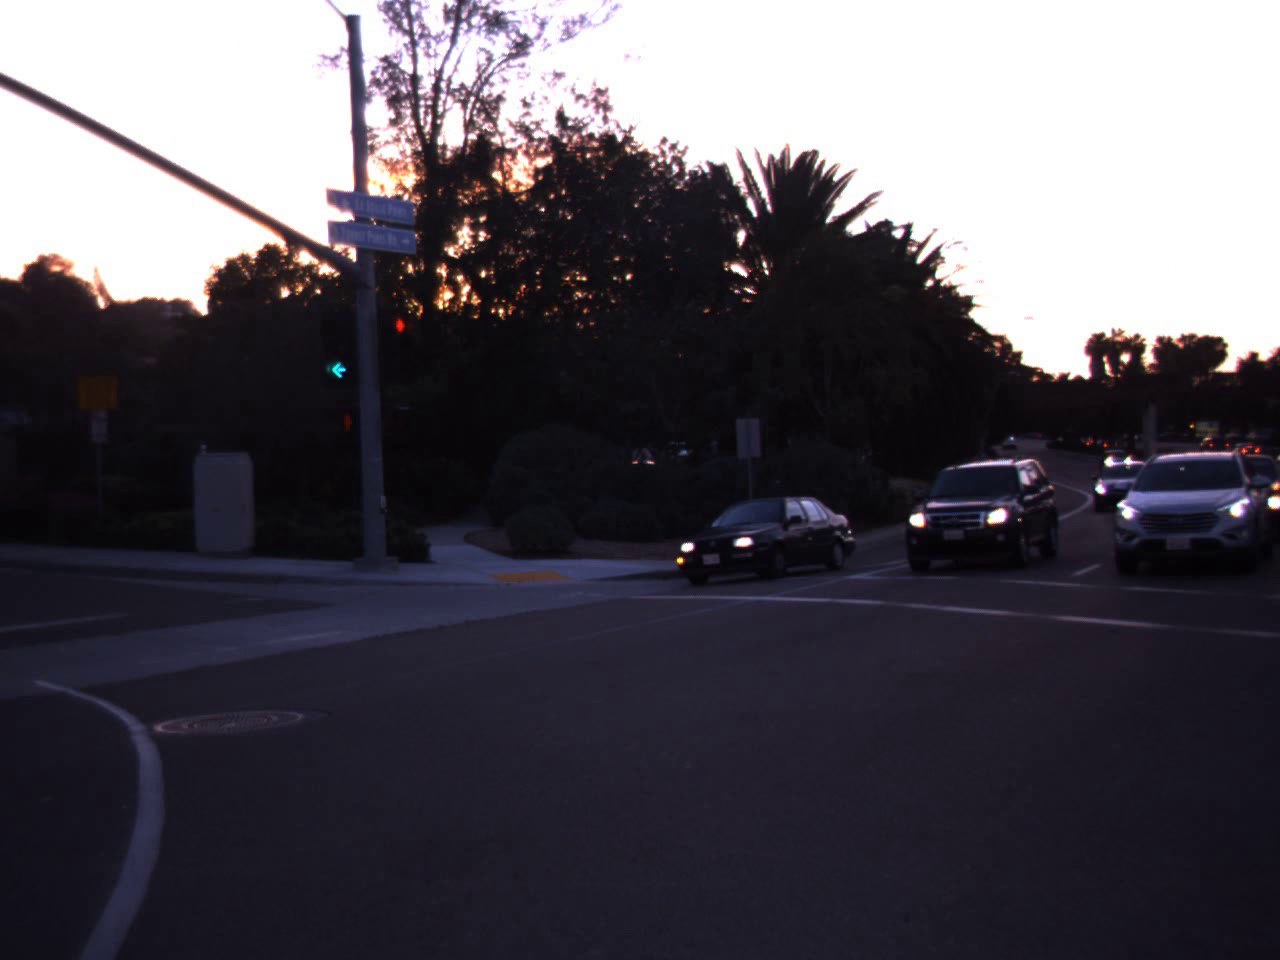go: (310, 309, 367, 384)
